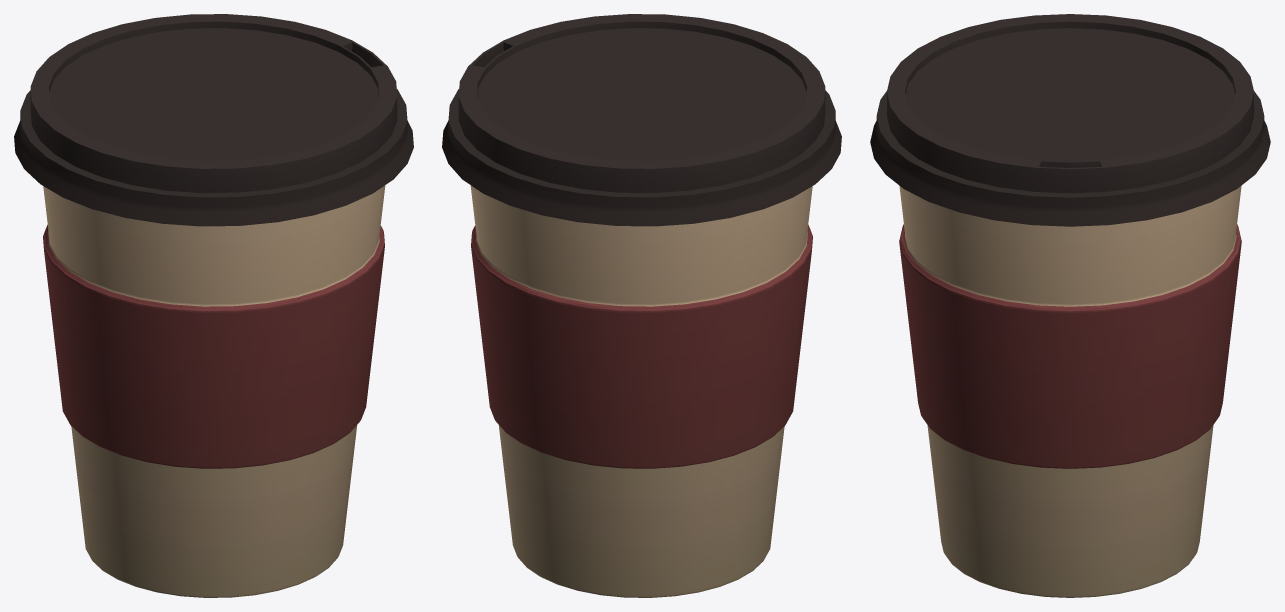
Rendered from CoffeCup.glb.
The picture shows the model from 3 angles, left to right: view 1: azimuth 30°, elevation 25°; view 2: azimuth 150°, elevation 25°; view 3: azimuth 270°, elevation 25°; orthographic projection.
Parts seen in each view (by area): view 1: Cup, Lid; view 2: Cup, Lid; view 3: Cup, Lid.
Part boxes in pixels (left/top/right/bottom): Cup: left=43, top=185, right=385, bottom=597; Lid: left=14, top=14, right=413, bottom=226; Cup: left=470, top=185, right=812, bottom=597; Lid: left=442, top=14, right=841, bottom=226; Cup: left=899, top=186, right=1241, bottom=597; Lid: left=870, top=14, right=1270, bottom=226.
Size of the model in its own units: 2.23 by 2.79 by 2.23.
1 material, 1 textured.
